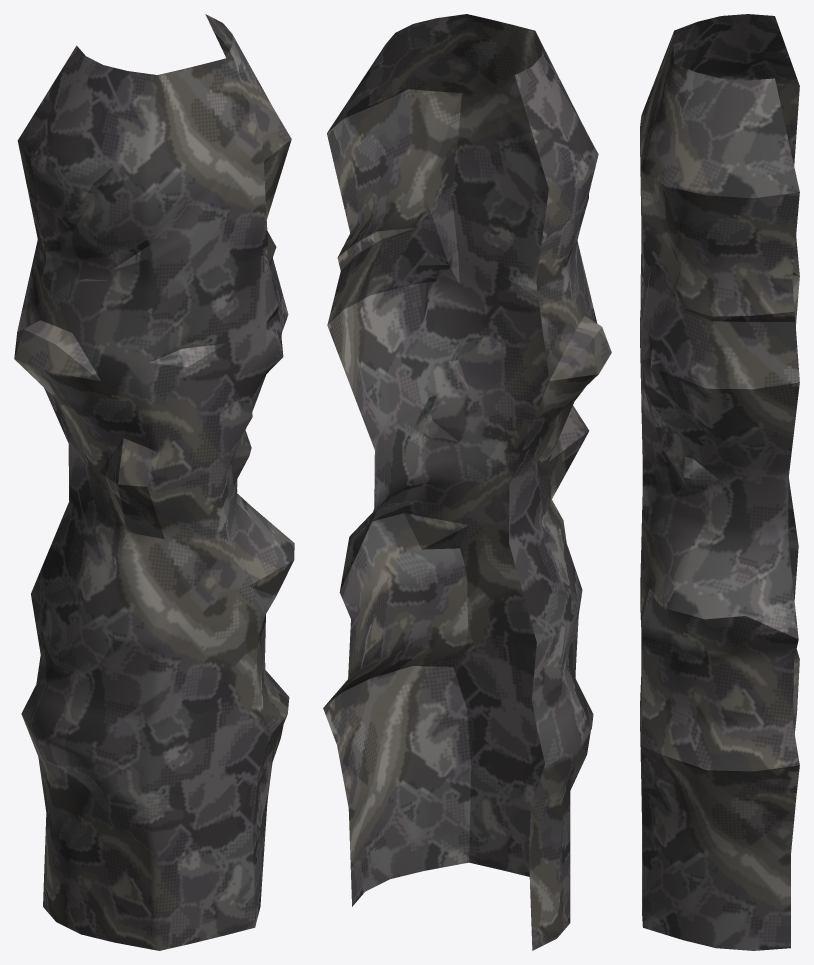
File: Rock Pillar.fbx
3 renders of one model, left to right at view 1: azimuth 30°, elevation 25°; view 2: azimuth 150°, elevation 25°; view 3: azimuth 270°, elevation 25°, orthographic.
Visible parts, largest first — view 1: Rock Pillar; view 2: Rock Pillar; view 3: Rock Pillar.
Part boxes in pixels (bbox=[...]): Rock Pillar: bbox=[14, 14, 294, 950]; Rock Pillar: bbox=[323, 14, 611, 950]; Rock Pillar: bbox=[640, 14, 799, 950].
Bounding box in the file's own units: 68.65 × 220 × 37.08.
Materials: 1 (1 with a texture image).
